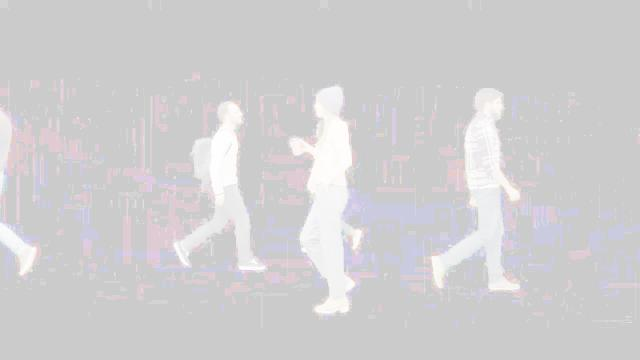berjalan: (426, 88, 520, 294), (170, 90, 268, 278), (292, 77, 364, 317)
